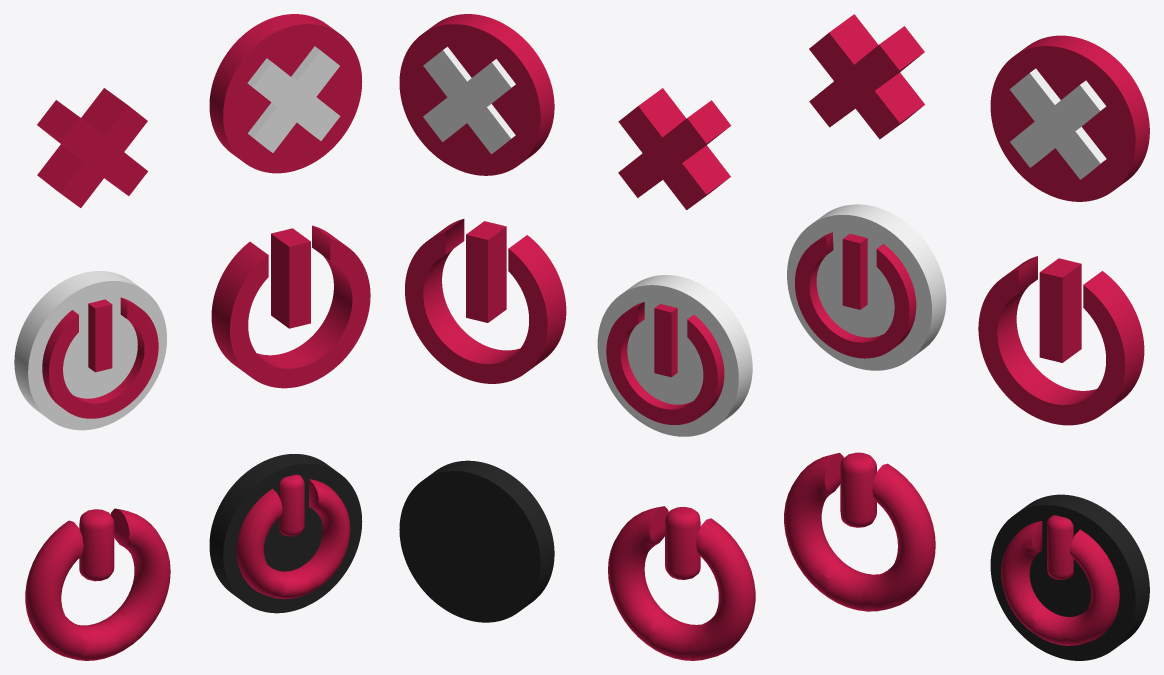
3 renders of one model, left to right at view 1: azimuth 30°, elevation 25°; view 2: azimuth 150°, elevation 25°; view 3: azimuth 330°, elevation 25°, orthographic. The views are drawn at different scales.
Visible parts, largest first — view 1: X_button, off_1, 0ff_4, off_2, off_3, X; view 2: 0ff_4, X_button, off_1, off_2, off_3, X; view 3: X_button, off_1, 0ff_4, off_2, off_3, X.
Part boxes in pixels (box(x1,y1,x2,y2)): X_button: box(209, 14, 362, 173); off_1: box(14, 271, 166, 430); 0ff_4: box(209, 454, 362, 613); off_2: box(211, 225, 370, 388); off_3: box(25, 508, 170, 660); X: box(37, 88, 147, 207); 0ff_4: box(399, 460, 554, 622); X_button: box(399, 14, 554, 175); off_1: box(597, 275, 752, 436); off_2: box(405, 219, 566, 383); off_3: box(608, 506, 755, 660); X: box(618, 88, 731, 210); X_button: box(990, 35, 1149, 201); off_1: box(787, 204, 946, 370); 0ff_4: box(990, 494, 1149, 660); off_2: box(978, 256, 1144, 425); off_3: box(784, 452, 935, 611); X: box(809, 14, 924, 139).
Size of the model in its own units: 47.64 by 79.75 by 7.41.
Materials: 6 (6 with a texture image).
